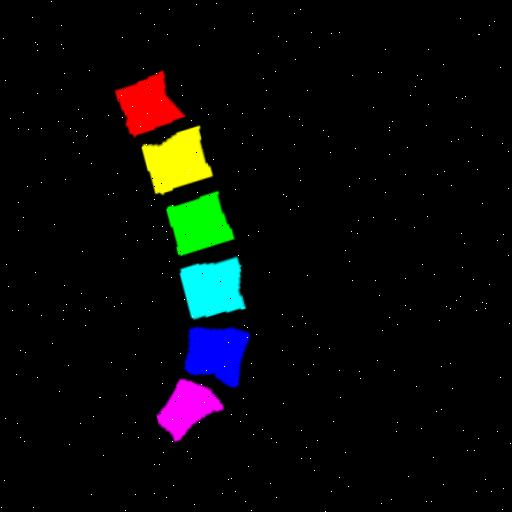L1: (114, 75, 184, 137)
L2: (141, 131, 211, 196)
L3: (165, 195, 231, 257)
L4: (178, 262, 241, 323)
L5: (180, 332, 246, 392)
S1: (152, 382, 219, 444)
